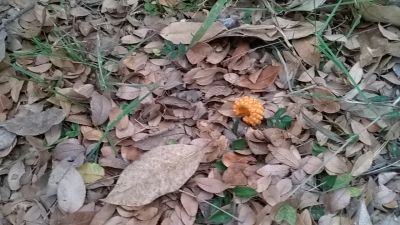eggs: (234, 95, 264, 125)
